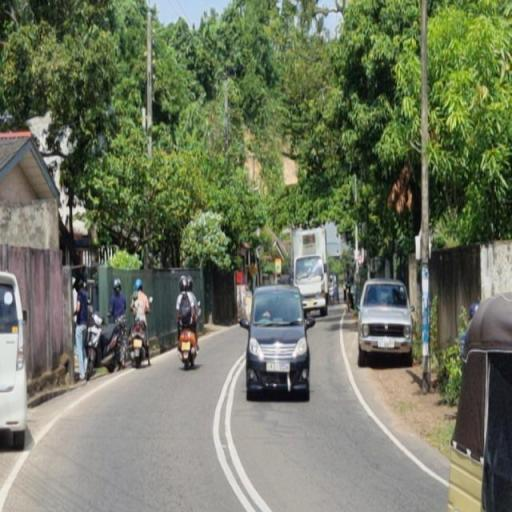double_white_line: (213, 354, 271, 511)
